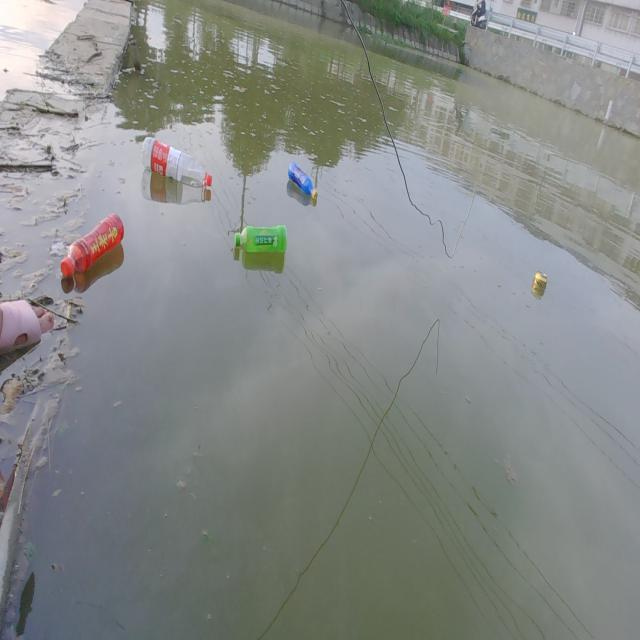Bottle: (138, 130, 214, 195), (60, 210, 126, 279), (230, 223, 289, 260), (286, 156, 319, 202)
Can: (528, 266, 550, 306)
